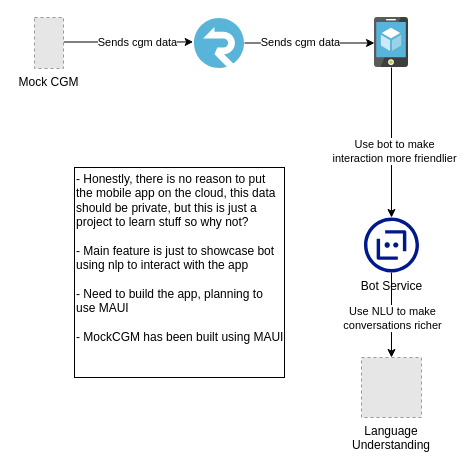
The diagram is 473 pixels wide and 470 high, and some of its shapes have lost their labels. Grey dashed boxes stand in for pictures. Here are the shapes that lost their labels. From the top down, the centre of each, then its label:
pixel 219 43: Azure SignalR
pixel 391 42: Diabetes App on Azure Mobile App Services
